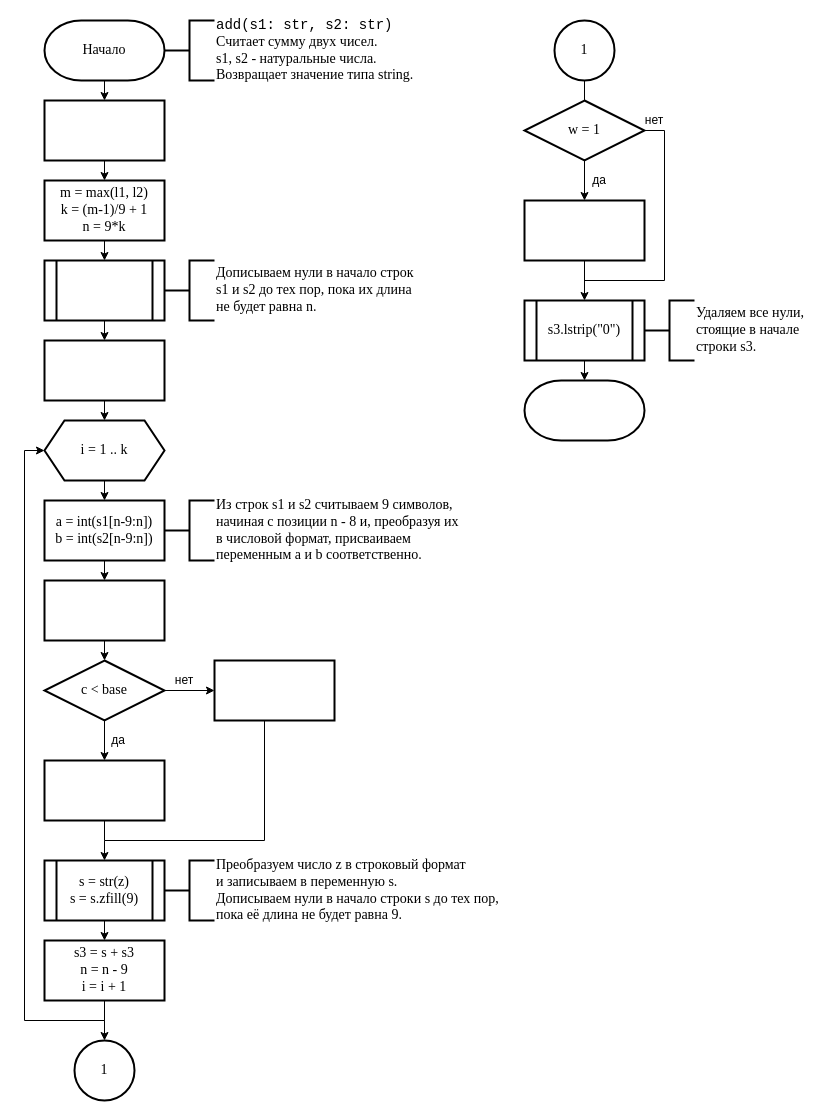
The diagram is 822 pixels wide and 1119 high, and some of its shapes have lost their labels. Each missing label, with the centre of its shape:
c = a + b + w: point 104,610
l1 = len(s1) l2 = len(s2): point 104,130
s1 = s1.zfill(n) s2 = s2.zfill(n): point 104,290
s3 = "1" + s3: point 584,230
w = 0 base = 10^9: point 104,370
z = c - base w = 1: point 274,690
z = c w = 0: point 104,790
Конец: point 584,410
